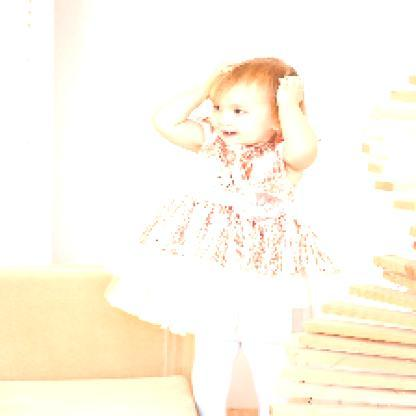child: (103, 55, 345, 416)
